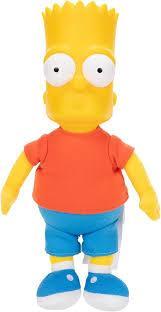Bart: (0, 0, 161, 307)
